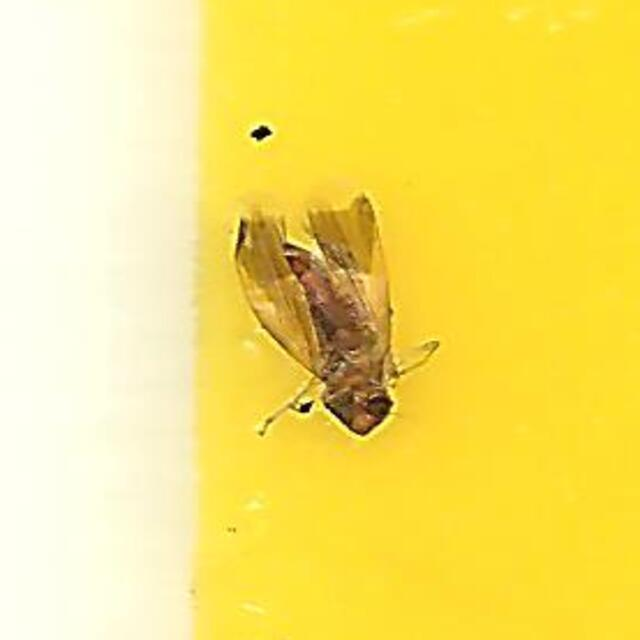Hemiptera: (231, 199, 409, 441)
